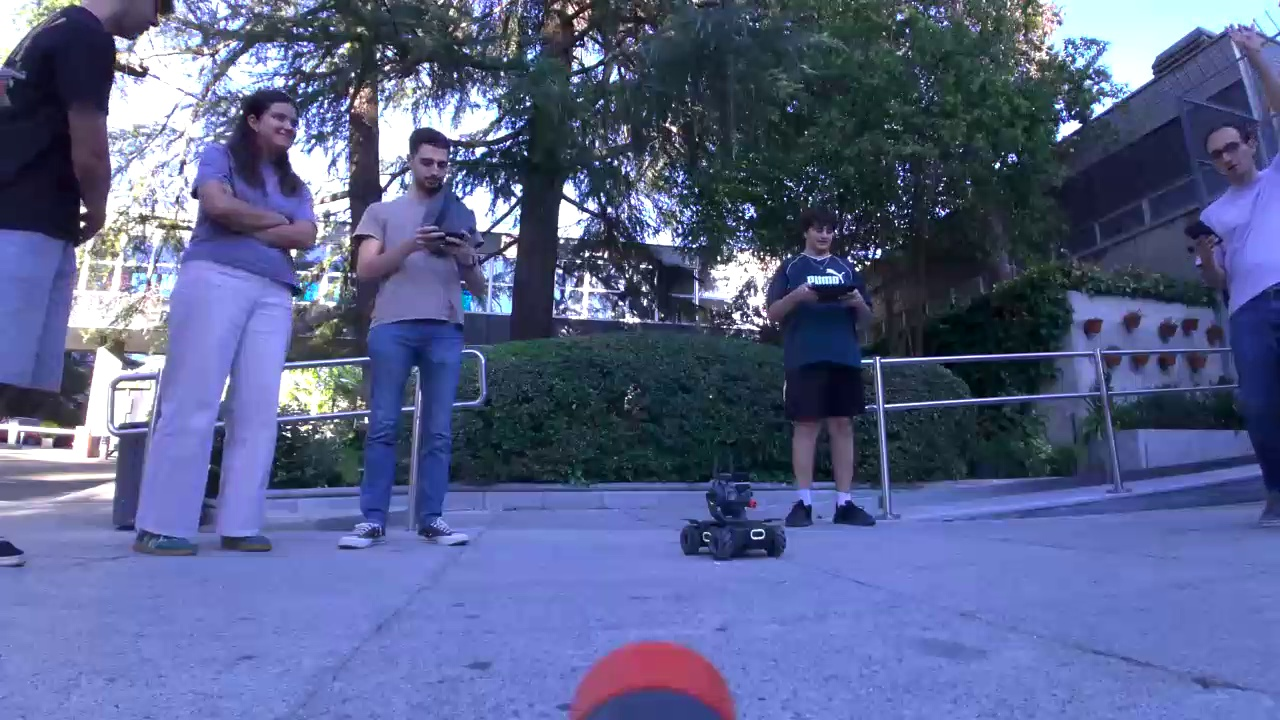robot: (671, 477, 789, 555)
